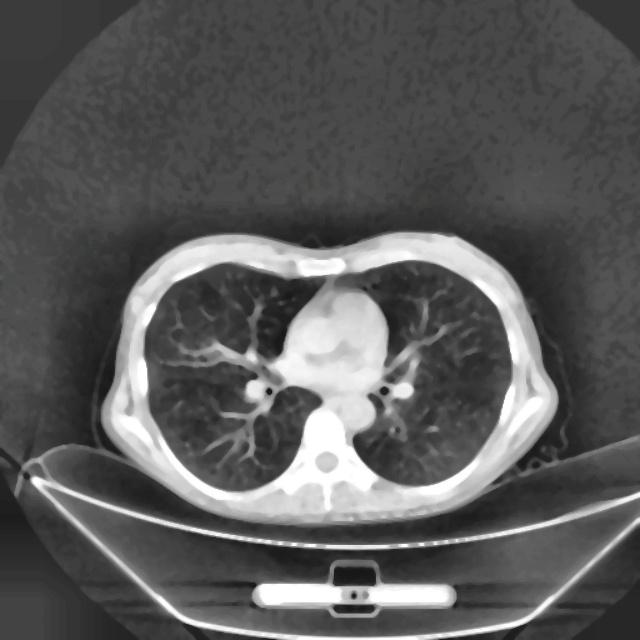covid: (99, 228, 559, 527)
